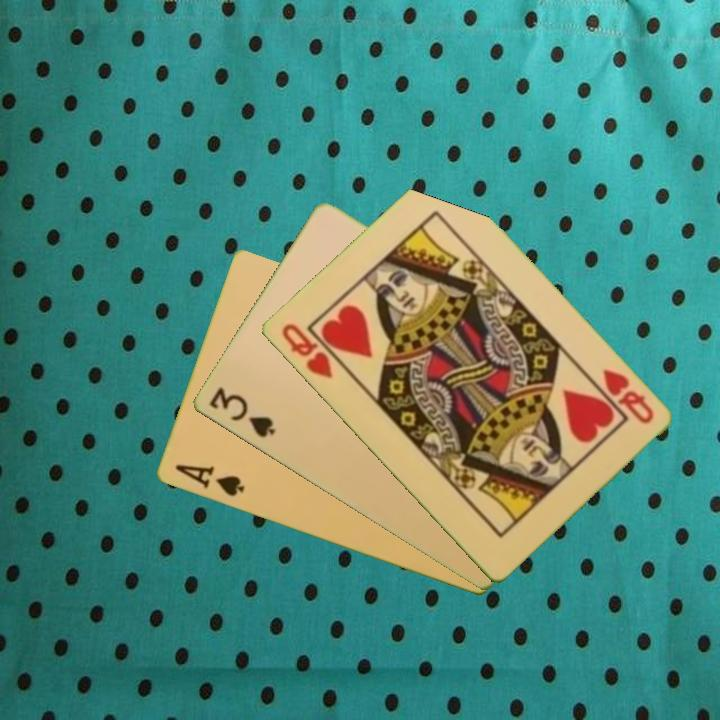3s: (205, 383, 278, 441)
As: (171, 461, 247, 500)
Qh: (598, 365, 657, 427), (277, 320, 335, 382)
